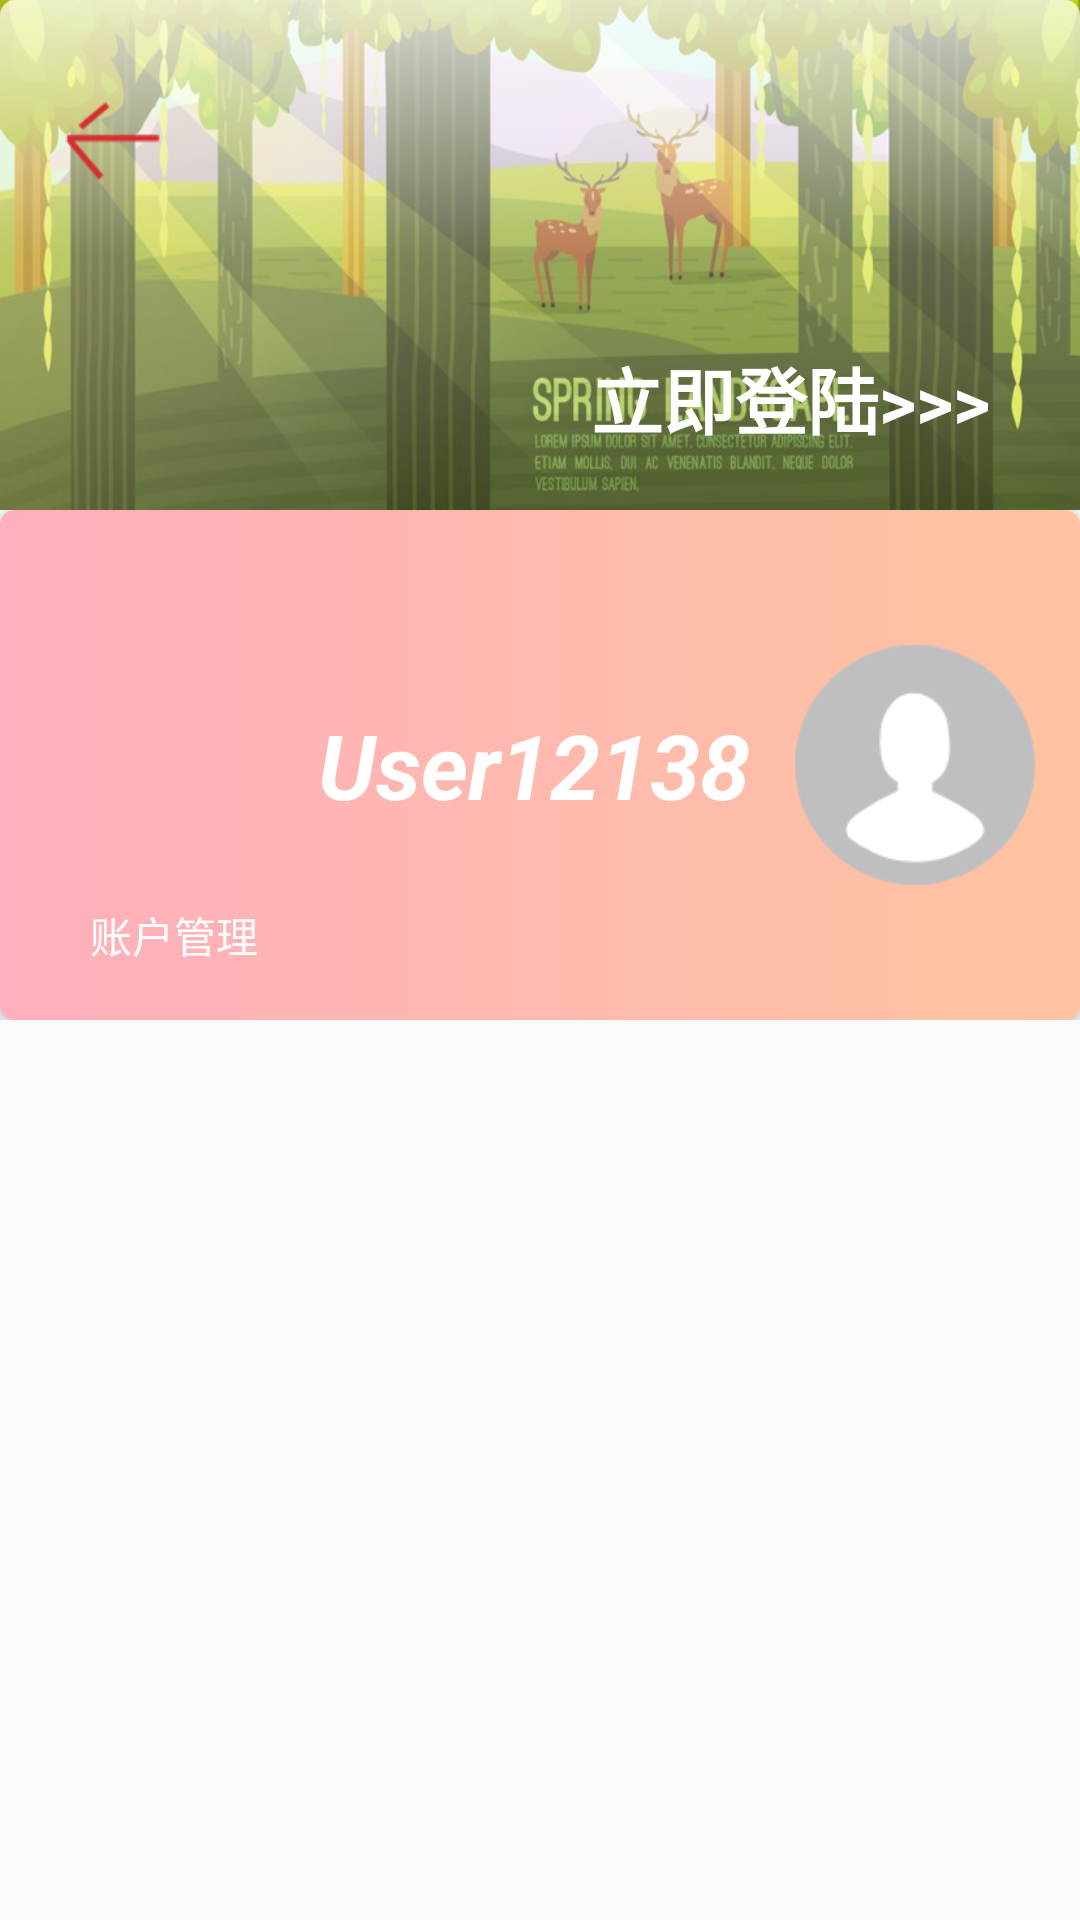

Icon click points for this 1080w x 1920h phone screenshot, format point (x, y):
back: point (105, 144)
head: point (915, 765)
